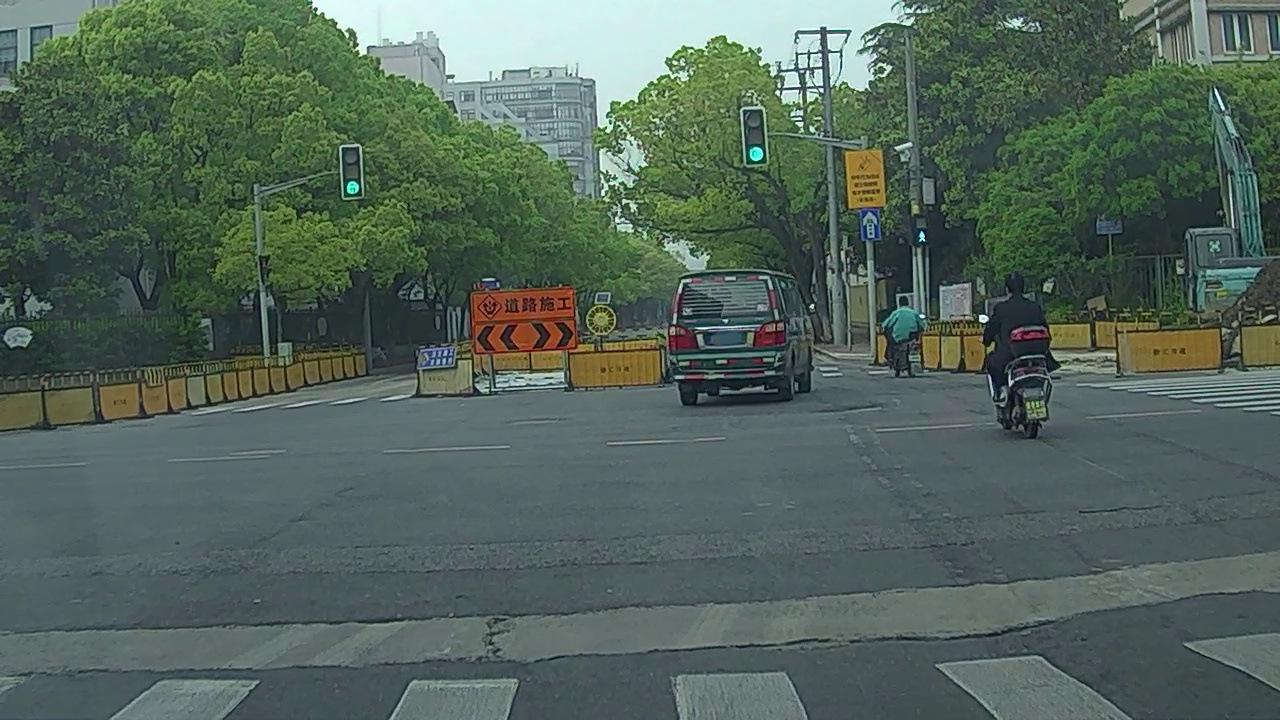traffic_light: (743, 109, 768, 163), (340, 147, 363, 198)
